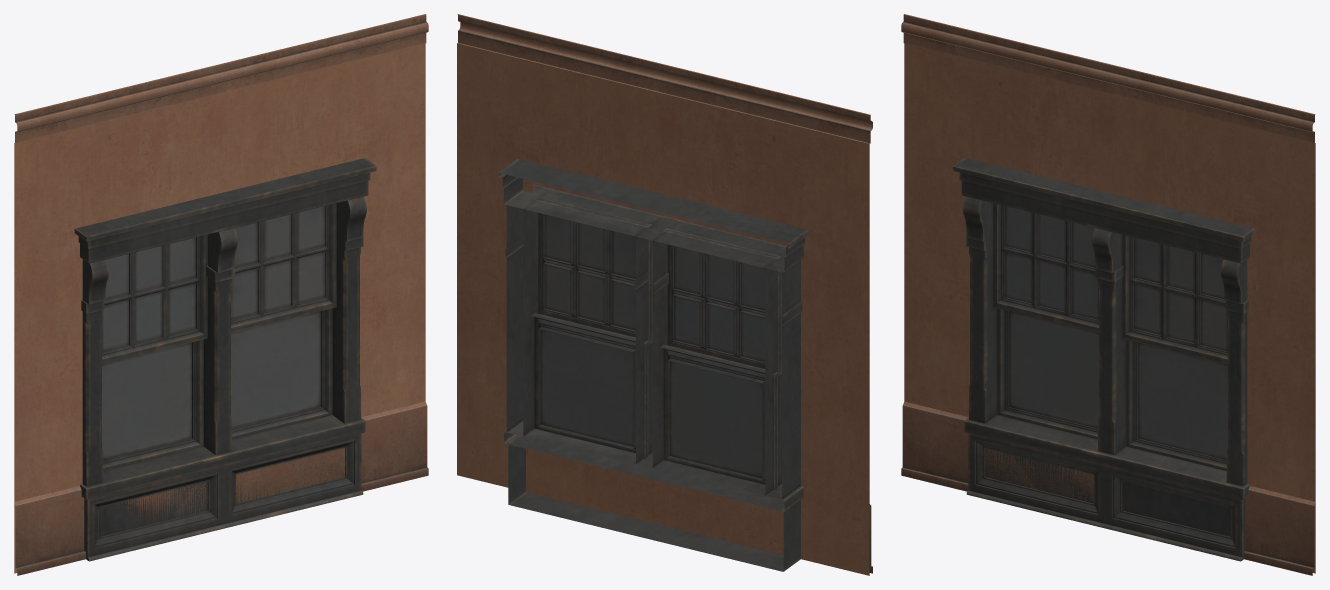
The model's file is SM_DowntownWindowBay.glb.
3 renders of one model, left to right at view 1: azimuth 30°, elevation 25°; view 2: azimuth 150°, elevation 25°; view 3: azimuth 330°, elevation 25°, orthographic.
Parts seen in each view (by area): view 1: SM_DowntownWindowBay; view 2: SM_DowntownWindowBay; view 3: SM_DowntownWindowBay.
Part boxes in pixels (x1,y1,x2,y2): SM_DowntownWindowBay: (14, 14, 428, 575); SM_DowntownWindowBay: (457, 14, 872, 575); SM_DowntownWindowBay: (901, 14, 1315, 575).
Bounding box in the file's own units: 3 × 3.2 × 0.39.
4 materials, 4 textured.
